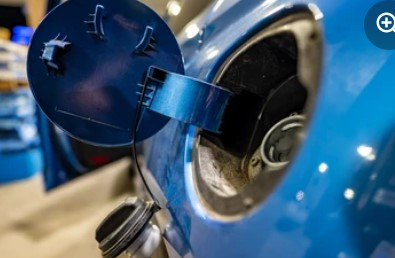open: (180, 3, 327, 223)
